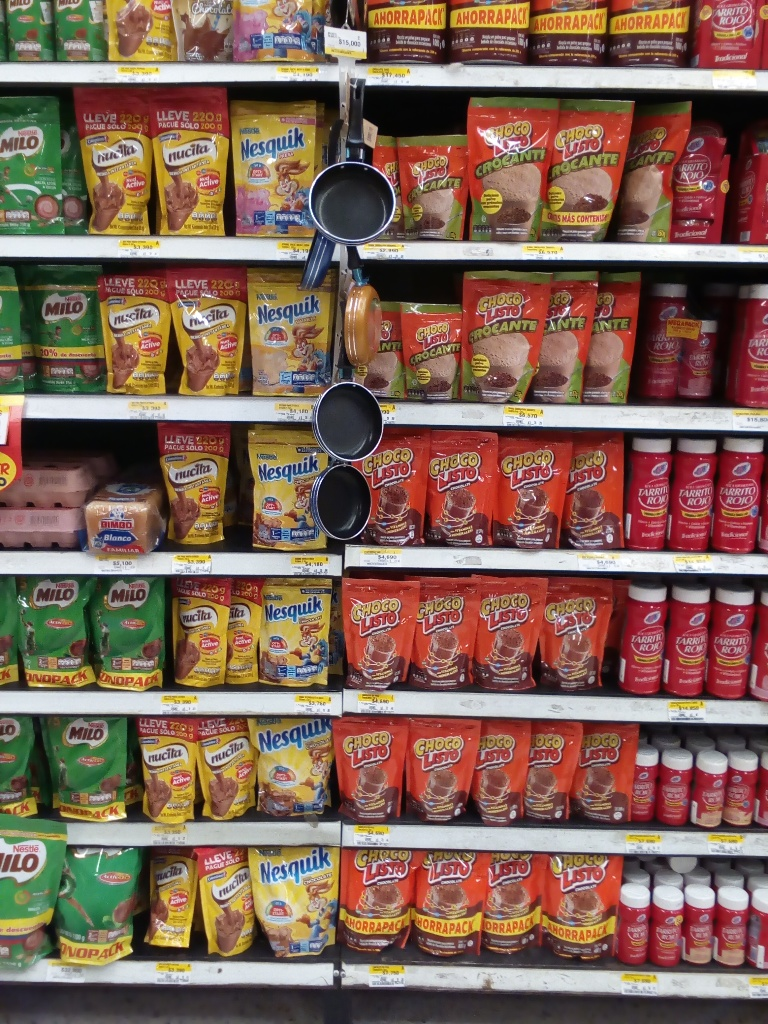COL0170102DYP10000: (398, 301, 461, 402)
COL0170102DYP25000: (462, 95, 555, 241)
COL0170103DYP20000: (566, 431, 629, 551)
COL0170103DYP40000: (545, 852, 623, 963)
COL0170203DYP25000: (19, 262, 109, 394)
COL0170203DYP50000: (15, 581, 95, 690)
COL0170303DYP20000: (247, 715, 333, 816)
COL0170305DYP20000: (231, 99, 317, 238)
COL0170306DYP20000: (246, 268, 330, 392)
